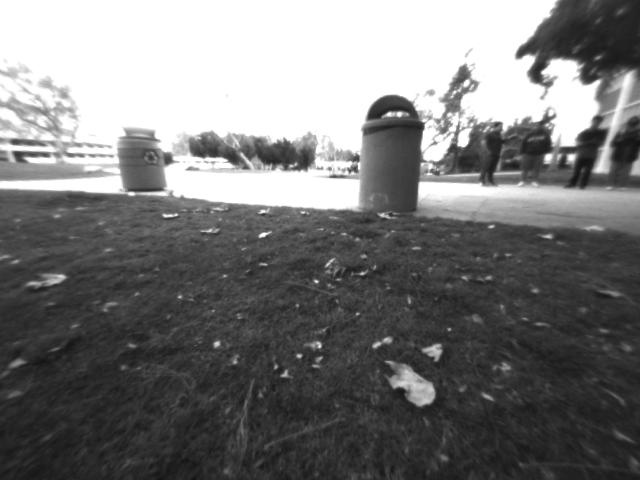trashcan: (352, 82, 426, 218)
